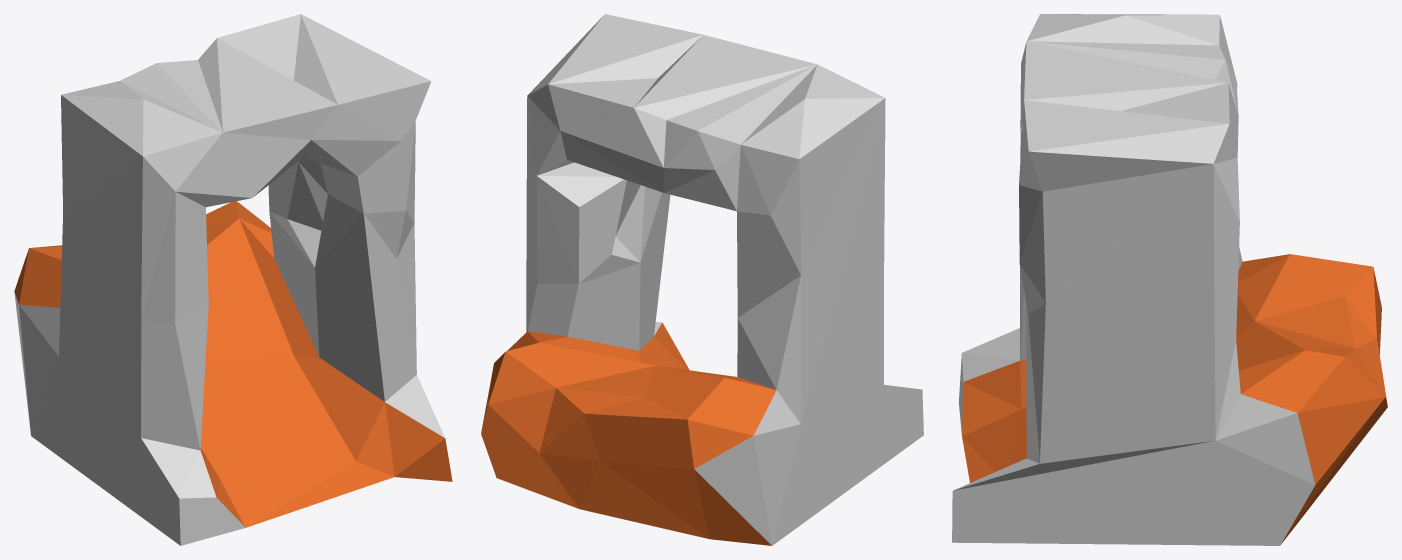
File: DoorLargeOneWay.fbx
3 renders of one model, left to right at view 1: azimuth 30°, elevation 25°; view 2: azimuth 150°, elevation 25°; view 3: azimuth 270°, elevation 25°, orthographic. The views are drawn at different scales.
Visible parts, largest first — view 1: DoorOneWay; view 2: DoorOneWay; view 3: DoorOneWay.
Boxes of the visible parts, bbox=[...] form: DoorOneWay: bbox=[14, 14, 452, 545]; DoorOneWay: bbox=[481, 14, 923, 545]; DoorOneWay: bbox=[952, 14, 1387, 545].
Bounding box in the file's own units: 413 × 529 × 512.
